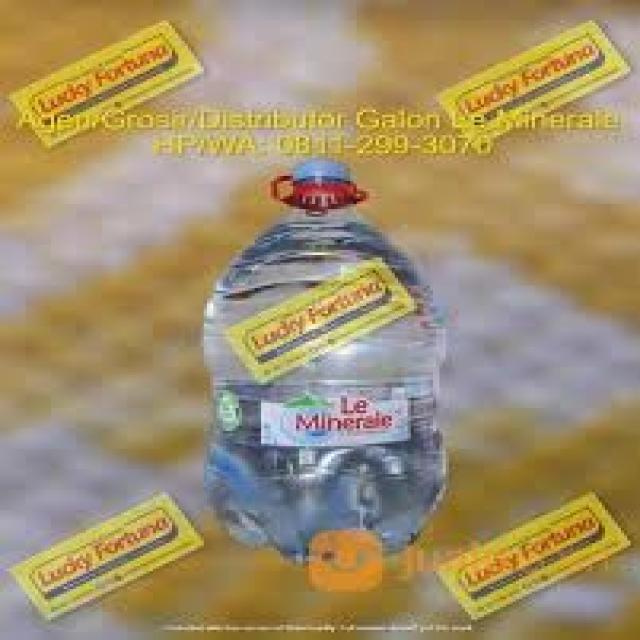Galon: (197, 153, 449, 579)
